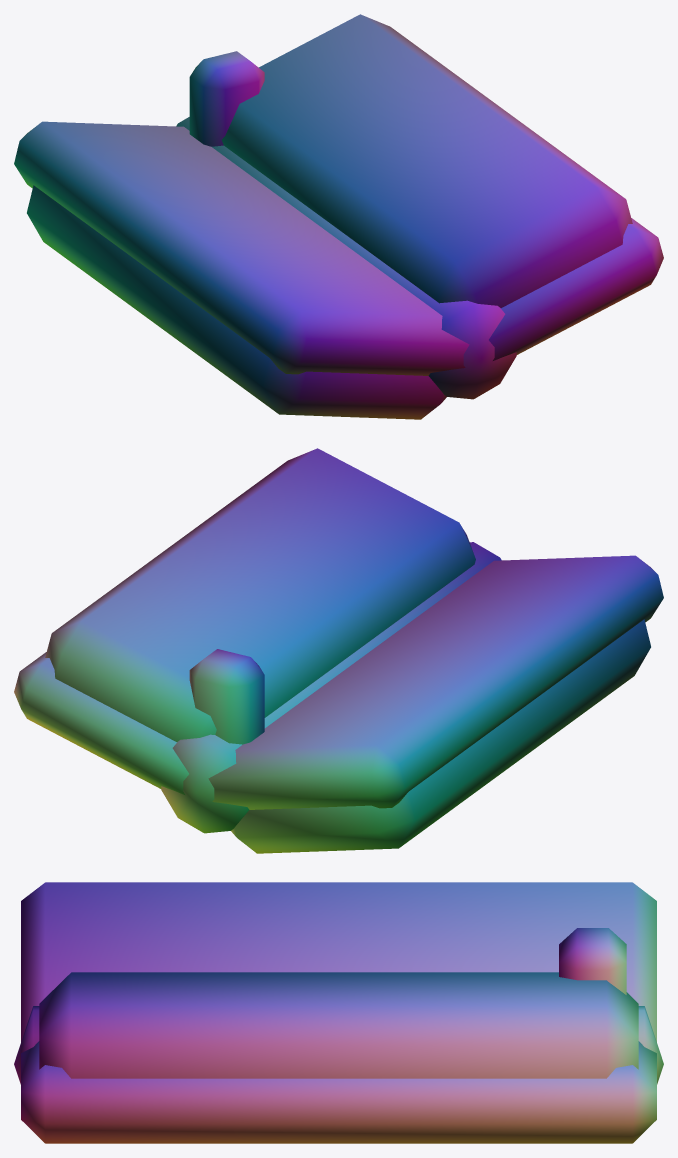
The model's file is SM_NPCKit_Prop_Book.fbx.
3 views of the same model, one above another, from view 1: azimuth 30°, elevation 25°; view 2: azimuth 150°, elevation 25°; view 3: azimuth 270°, elevation 25° (orthographic). The views are drawn at different scales.
Visible parts, largest first — view 1: SM_NPCKit_Prop_Book; view 2: SM_NPCKit_Prop_Book; view 3: SM_NPCKit_Prop_Book.
Part boxes in pixels (<box>): SM_NPCKit_Prop_Book: <box>14,14,663,419</box>; SM_NPCKit_Prop_Book: <box>14,448,663,853</box>; SM_NPCKit_Prop_Book: <box>14,882,663,1143</box>.
Size of the model in its own units: 0.2665 by 0.1237 by 0.3378.
